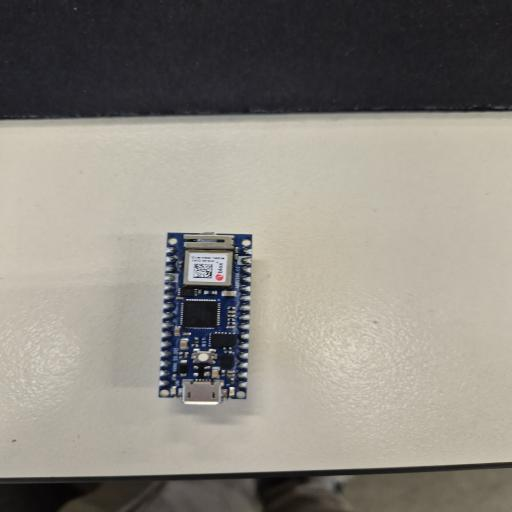arduino-nano-iot-33: (159, 233, 252, 404)
